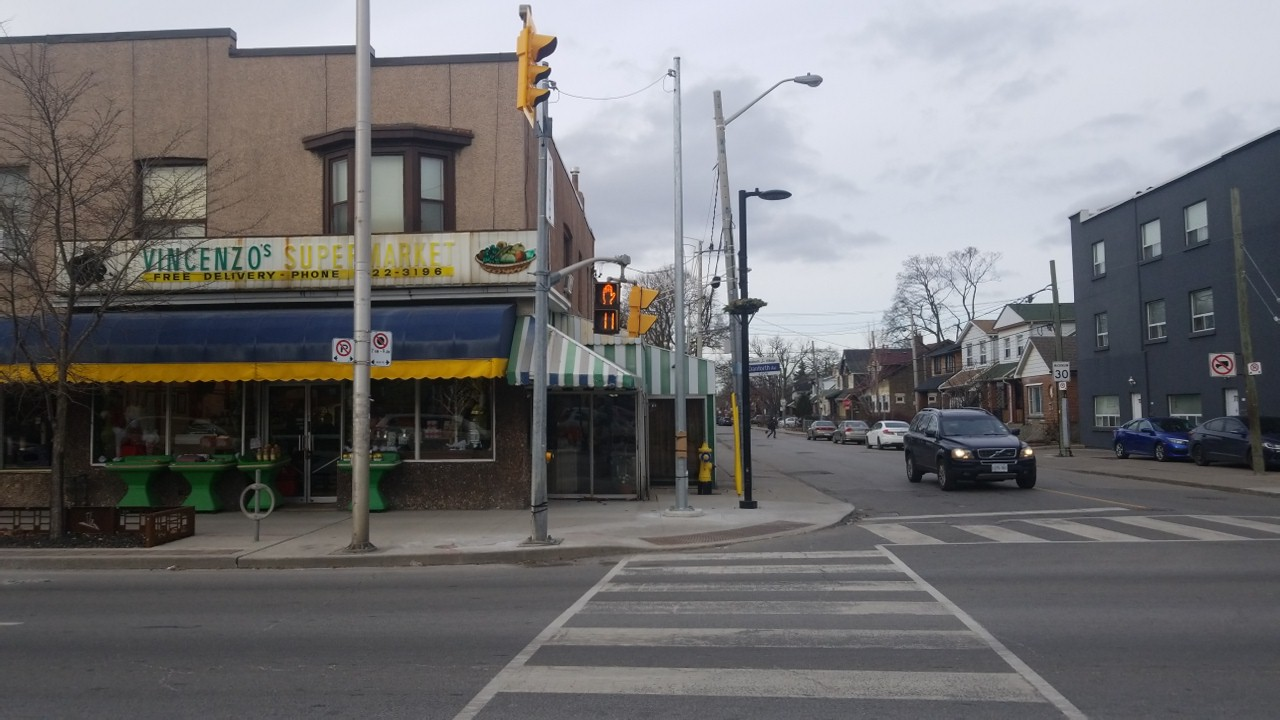light: (591, 279, 621, 334)
